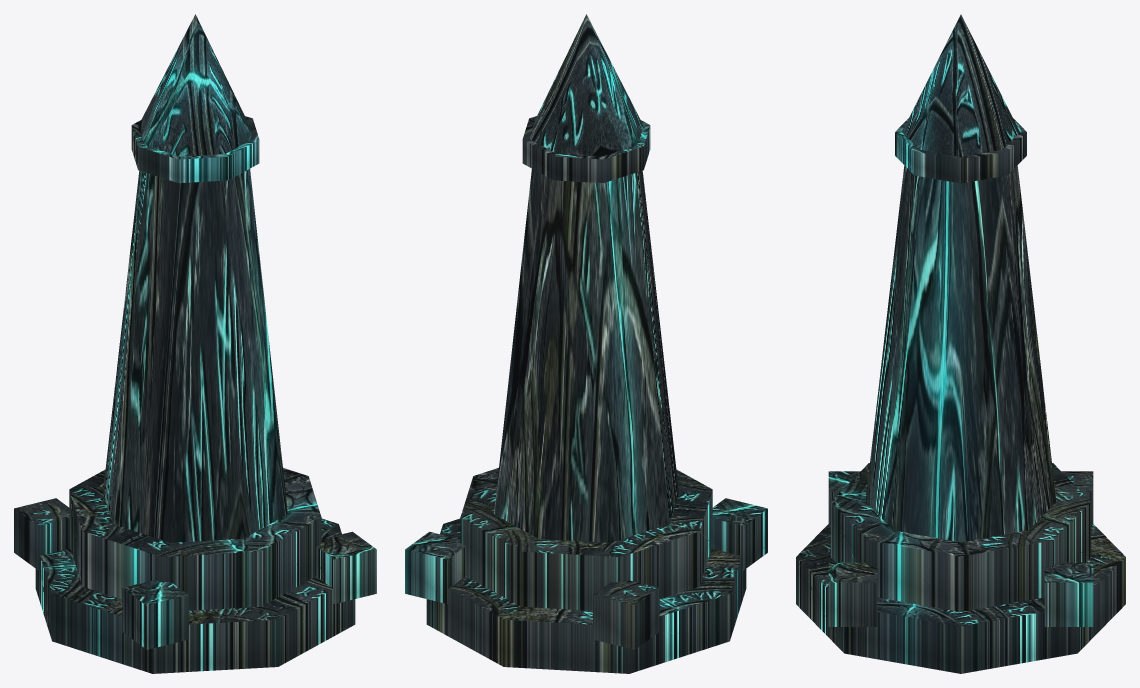
The model's file is ancient_runic_obelisk.glb.
The picture shows the model from 3 angles, left to right: view 1: azimuth 30°, elevation 25°; view 2: azimuth 150°, elevation 25°; view 3: azimuth 270°, elevation 25°; orthographic projection.
Visible parts, largest first — view 1: AncientRunicObelisk; view 2: AncientRunicObelisk; view 3: AncientRunicObelisk.
Boxes of the visible parts, x1=… form: AncientRunicObelisk: x1=14, y1=14, x2=376, y2=673; AncientRunicObelisk: x1=405, y1=14, x2=767, y2=673; AncientRunicObelisk: x1=796, y1=14, x2=1125, y2=673.
Size of the model in its own units: 1.9 by 3.75 by 1.9.
1 material, 1 textured.
